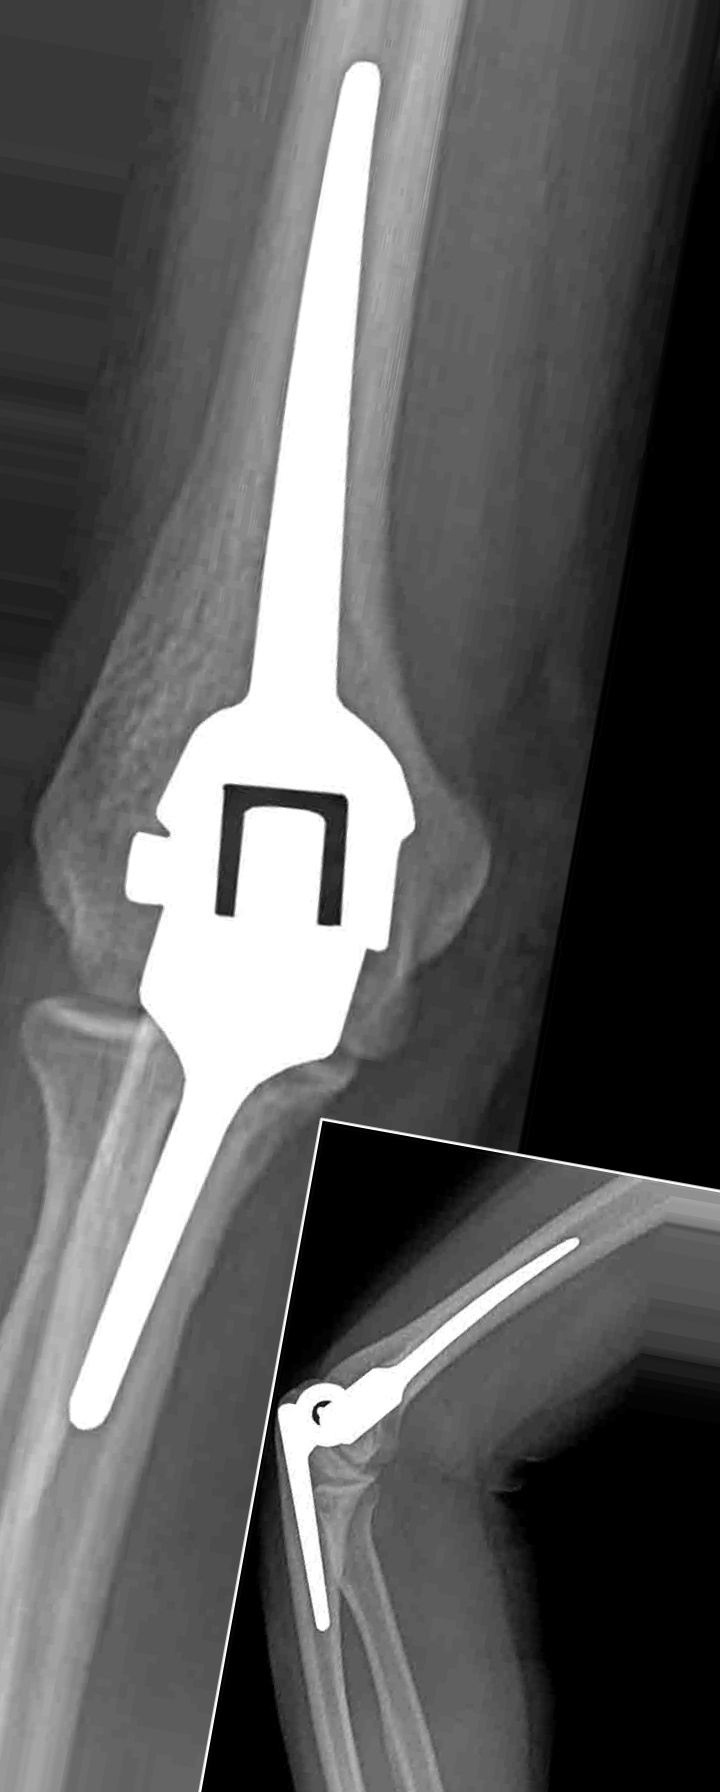Elbow - Osteonics - Stryker: (21, 53, 474, 1254), (270, 1225, 583, 1669)
